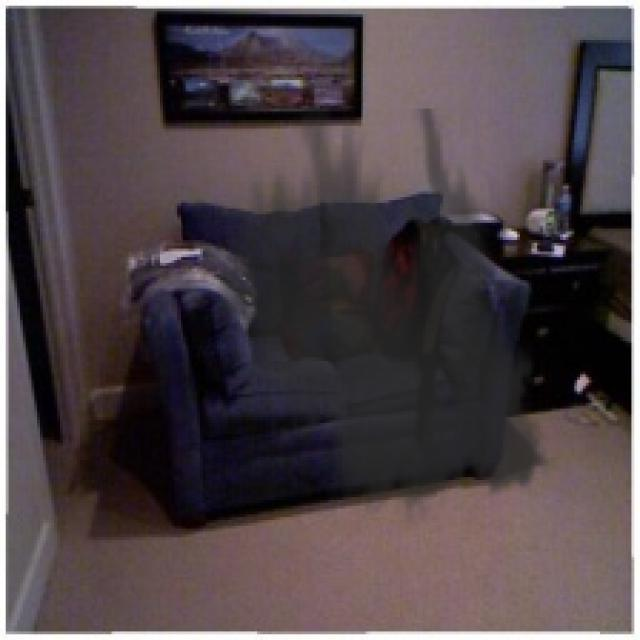Smoke: (205, 109, 560, 532)
